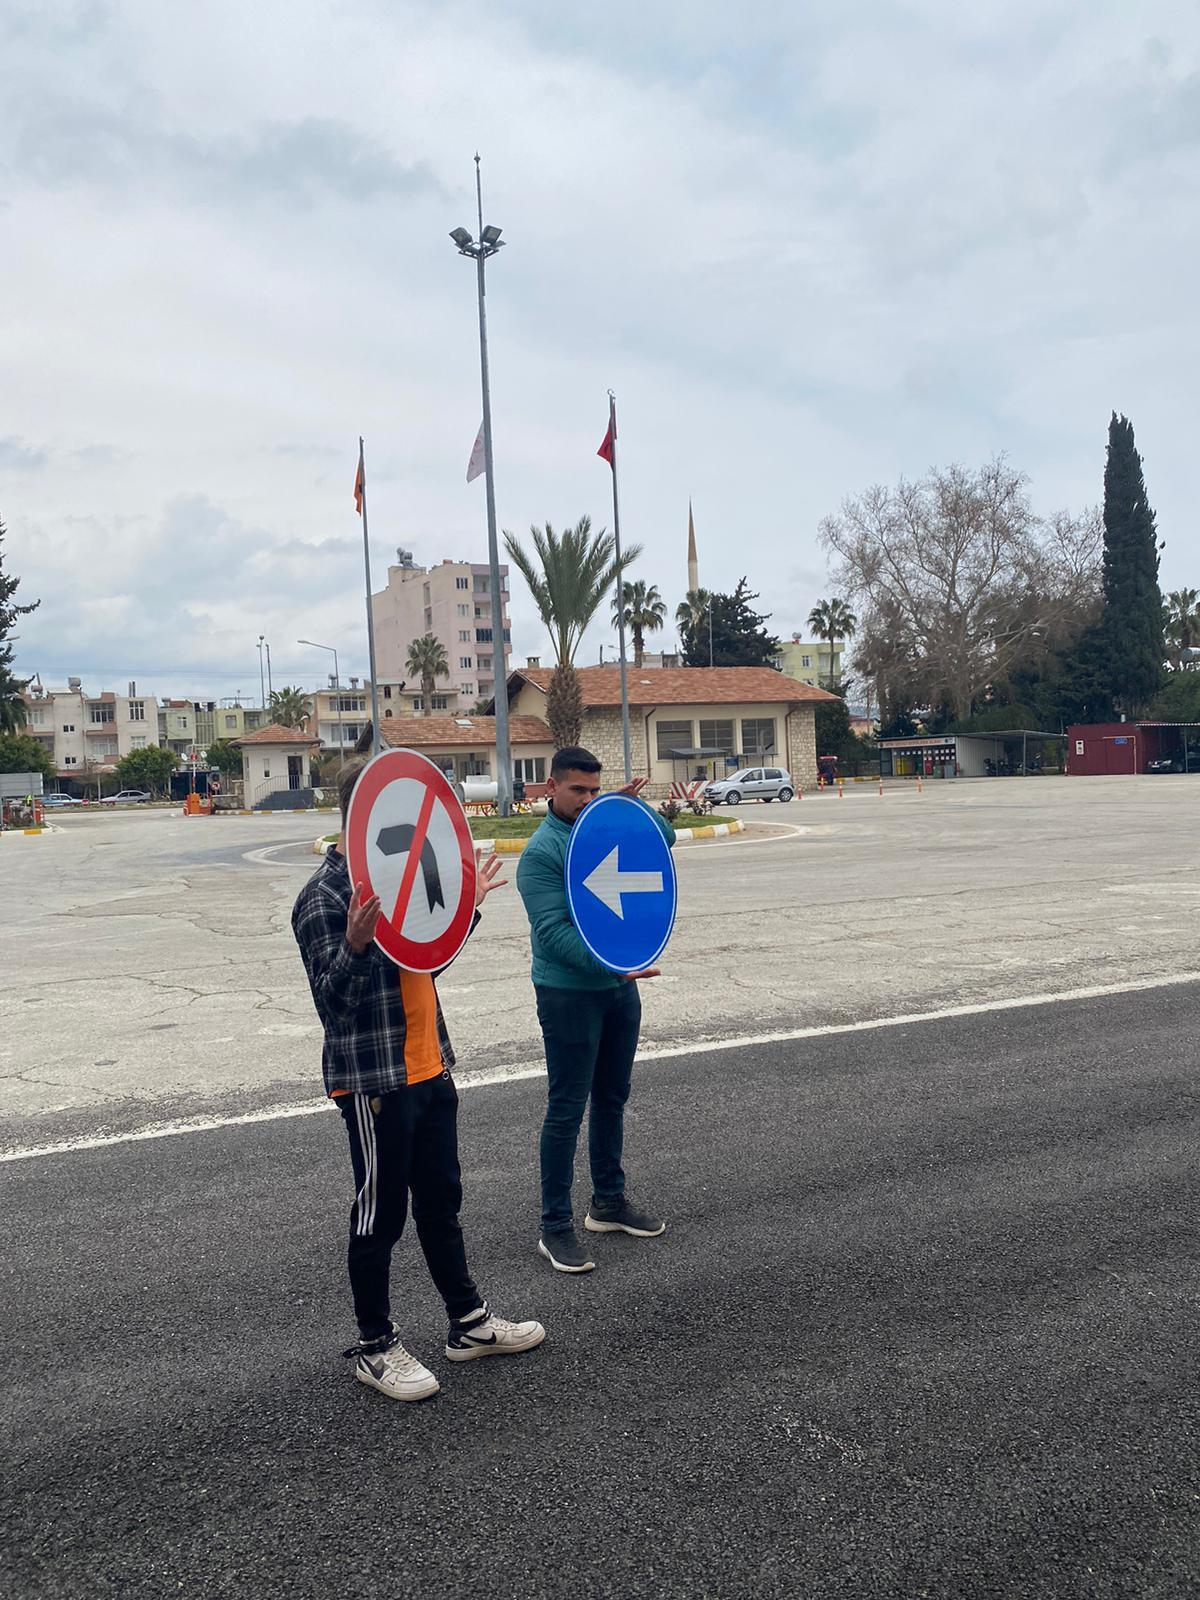leftturnsareforbidden: (345, 748, 485, 976)
turnleft: (570, 782, 674, 981)
